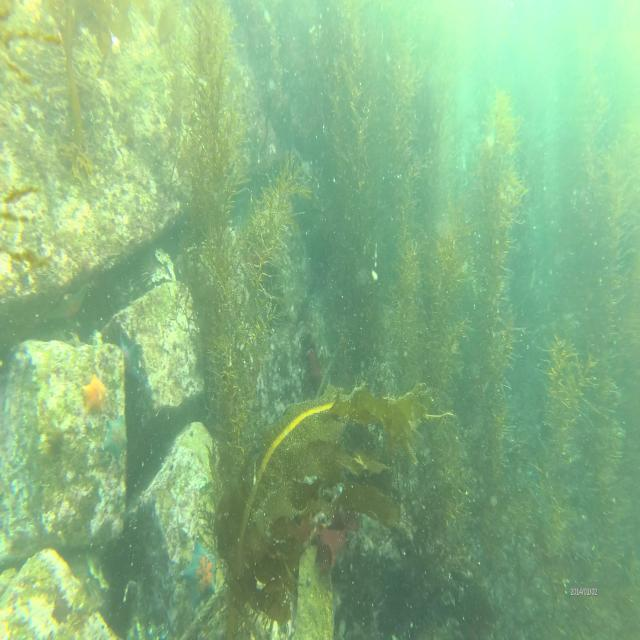echinus: (138, 250, 162, 295)
starfish: (180, 536, 219, 610), (104, 414, 130, 464), (80, 371, 107, 417)
